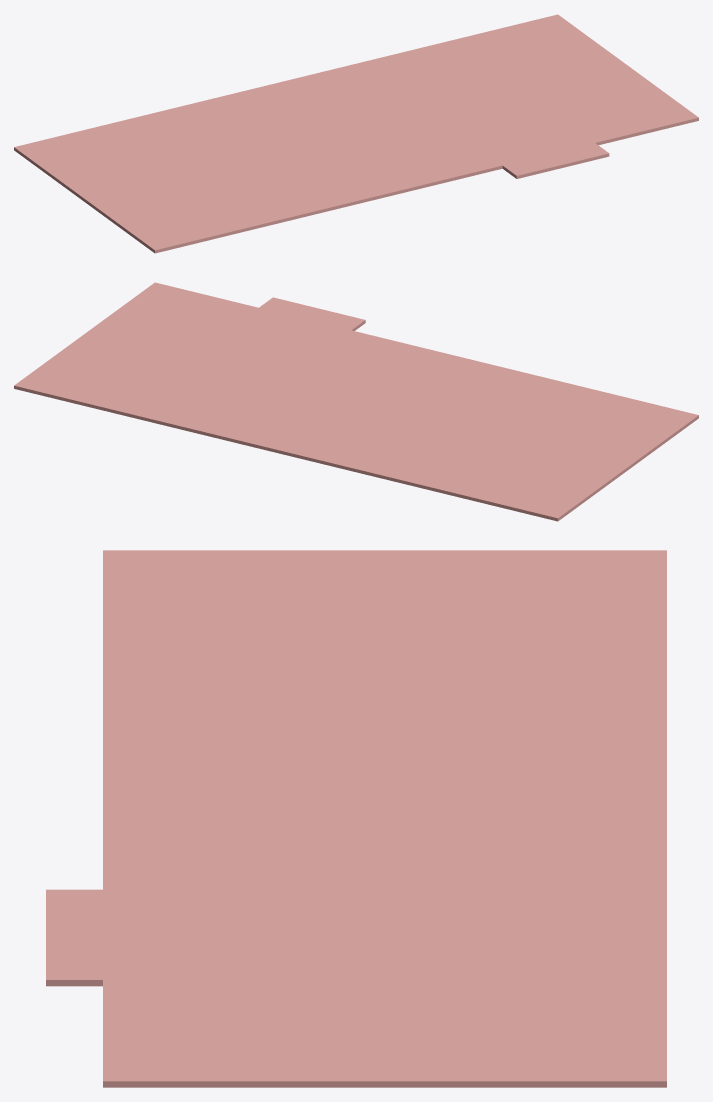
File: storebase.fbx
The picture shows the model from 3 angles, top to bottom: view 1: azimuth 30°, elevation 25°; view 2: azimuth 150°, elevation 25°; view 3: azimuth 270°, elevation 25°; orthographic projection. The views are drawn at different scales.
Parts seen in each view (by area): view 1: Store Base; view 2: Store Base; view 3: Store Base.
Part boxes in pixels (<box>): Store Base: <box>14,14,698,253</box>; Store Base: <box>14,282,698,521</box>; Store Base: <box>46,550,666,1087</box>.
Bounding box in the file's own units: 3564 × 20 × 1761.
